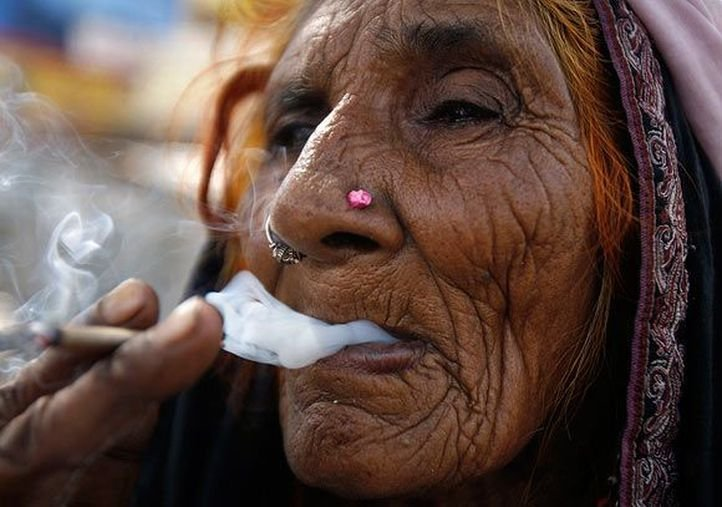cigarette: (23, 313, 179, 357)
